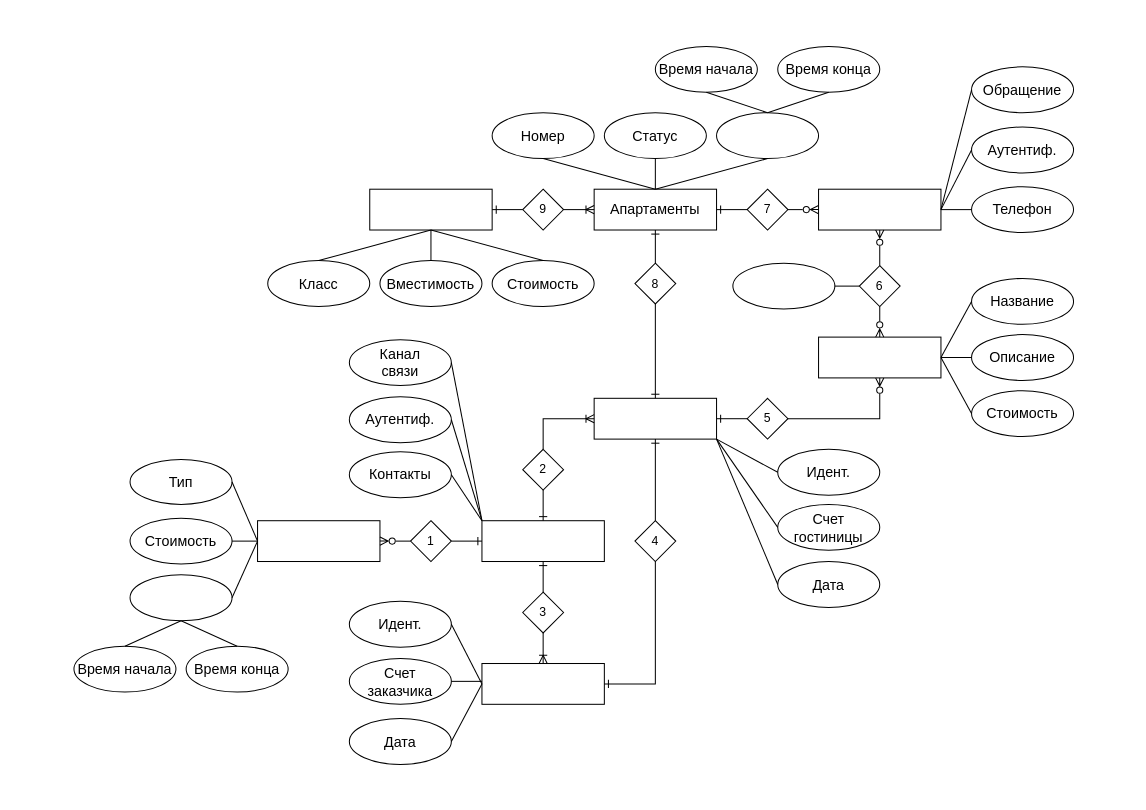
Some shapes in this 1146 by 810 pixel diagram are drawn without their labels. Here are the shapes that lost their labels. From the top down, the box of each, then its label:
(716, 112, 819, 159): Время статуса
(369, 188, 492, 230): Тип апартаментов
(818, 188, 941, 230): Постоялец
(732, 262, 835, 309): Время оказания
(818, 336, 941, 378): Дополнительная услуга
(593, 397, 717, 439): Счет
(257, 520, 380, 562): Бронь
(481, 520, 604, 562): Заказчик
(129, 574, 232, 621): Время брони
(481, 662, 604, 704): Оплата
